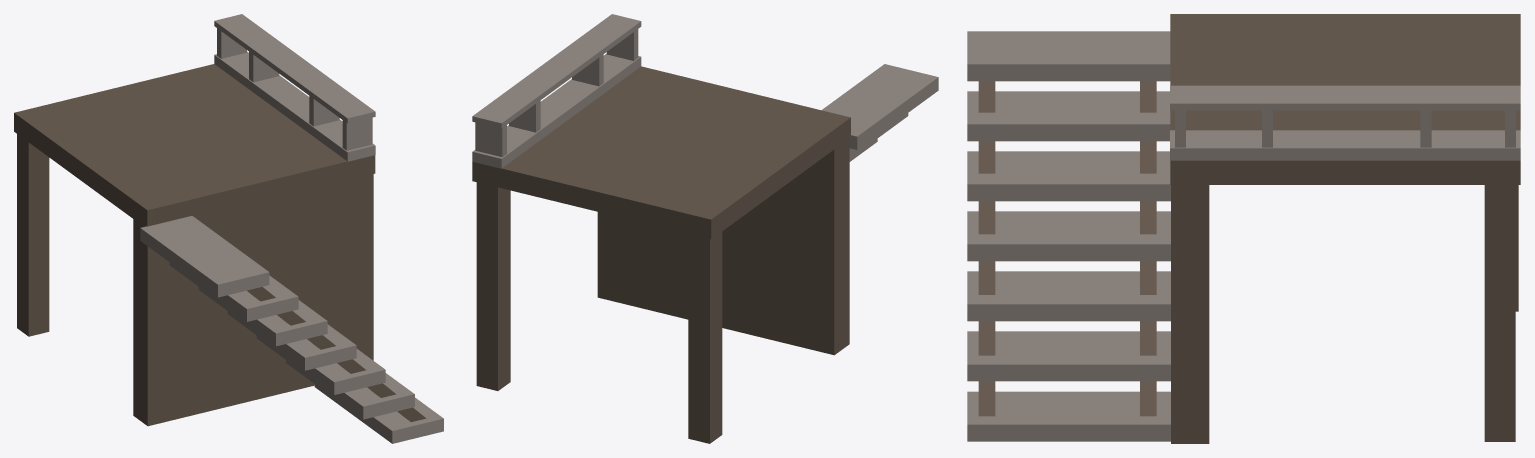
Rendered from colored bedframe with stairs bedroom 1.fbx.
The picture shows the model from 3 angles, left to right: view 1: azimuth 30°, elevation 25°; view 2: azimuth 150°, elevation 25°; view 3: azimuth 270°, elevation 25°; orthographic projection. The views are drawn at different scales.
Visible parts, largest first — view 1: polySurface19, polySurface11, polySurface4, polySurface9; view 2: polySurface19, polySurface4, polySurface11; view 3: polySurface11, polySurface19, polySurface4, polySurface9.
Boxes of the visible parts, x1=… form: polySurface19: x1=14, y1=64, x2=375, y2=426; polySurface11: x1=140, y1=216, x2=443, y2=443; polySurface4: x1=214, y1=14, x2=375, y2=161; polySurface9: x1=247, y1=287, x2=426, y2=422; polySurface19: x1=472, y1=66, x2=850, y2=443; polySurface4: x1=472, y1=14, x2=641, y2=168; polySurface11: x1=822, y1=64, x2=938, y2=161; polySurface11: x1=967, y1=31, x2=1170, y2=441; polySurface19: x1=1170, y1=14, x2=1520, y2=443; polySurface4: x1=1170, y1=85, x2=1520, y2=160; polySurface9: x1=978, y1=81, x2=1156, y2=416.
Size of the model in its own units: 4.15 by 4.43 by 6.45.
